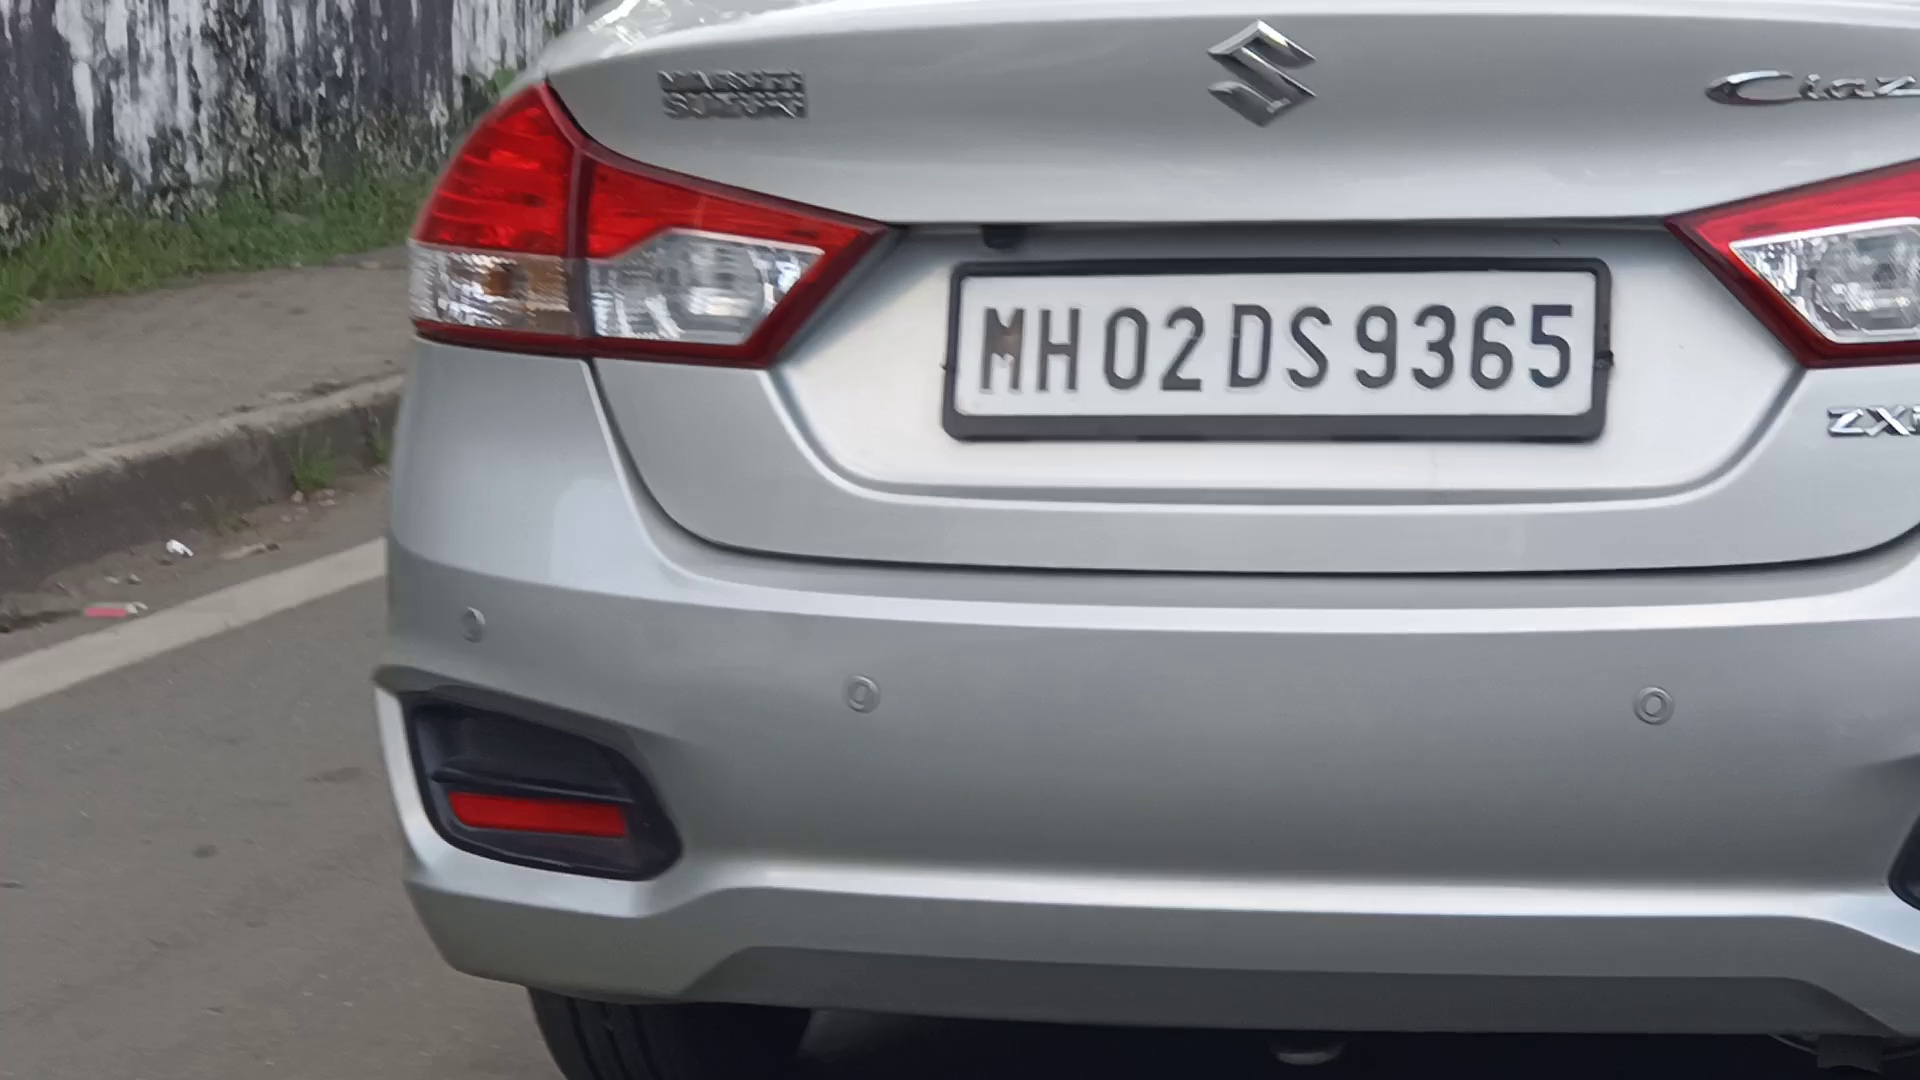MH02DS9365: (952, 277, 1597, 420)
